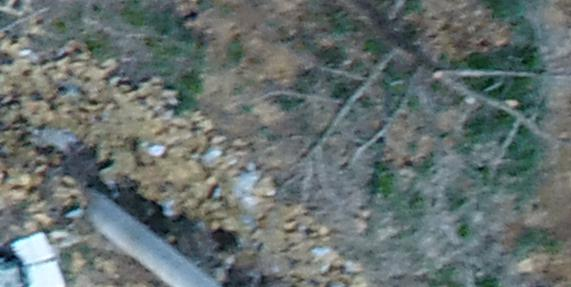apple: (270, 10, 561, 203)
